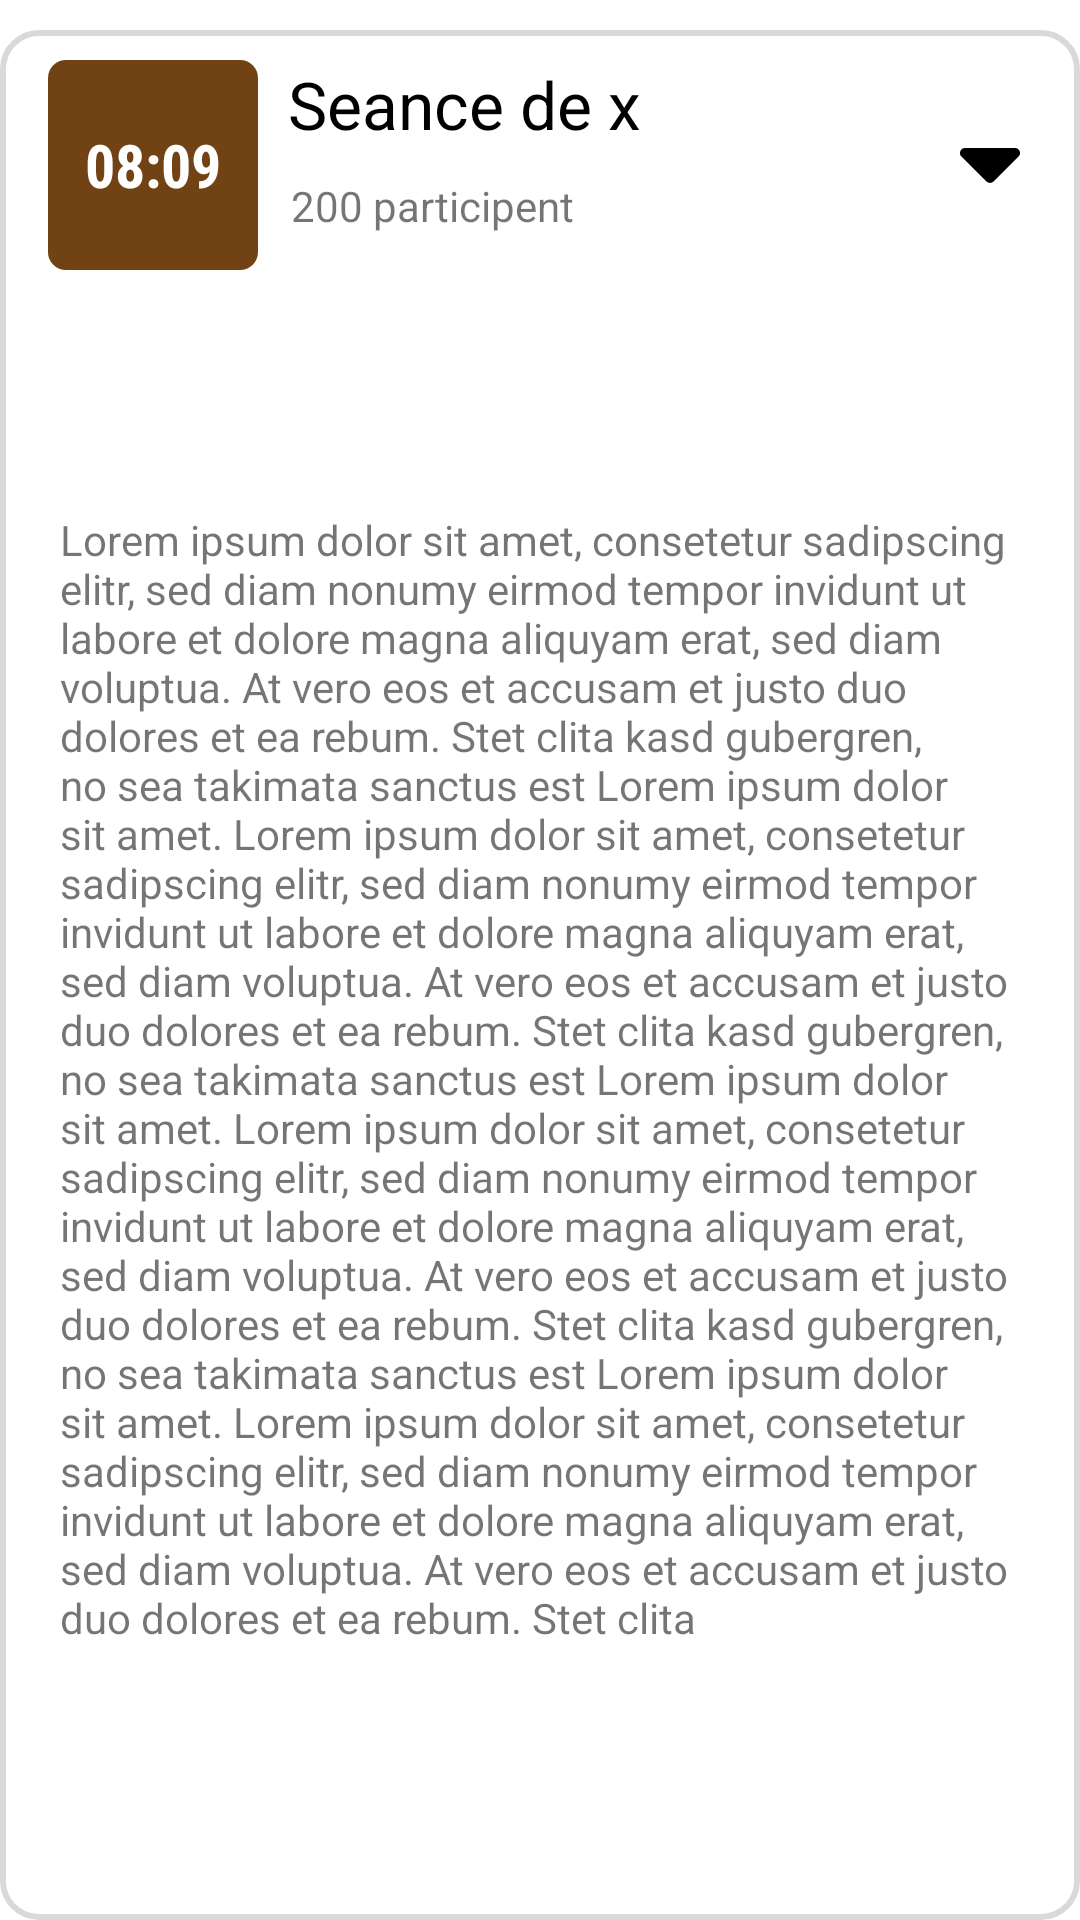

Point at icon controls on the screen. Image size 1080×1920, points as (x=x, y=y).
drop down: (x=990, y=165)
